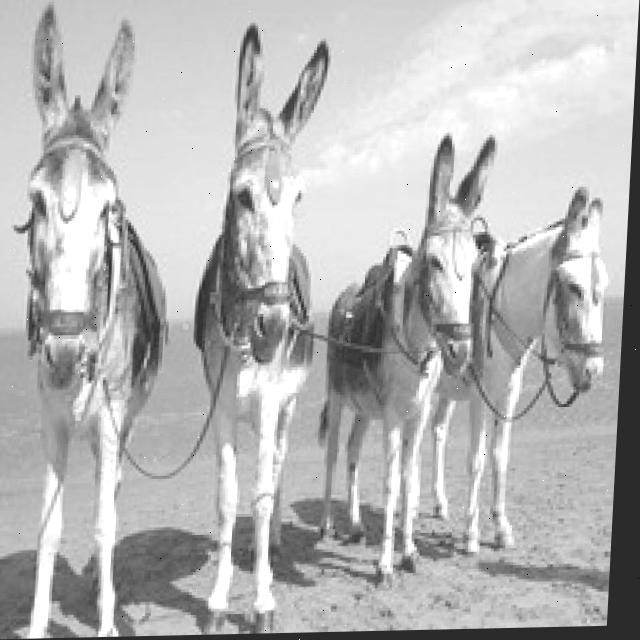Donkey: (0, 0, 183, 636), (176, 18, 333, 633), (309, 129, 499, 587), (419, 183, 613, 553)
